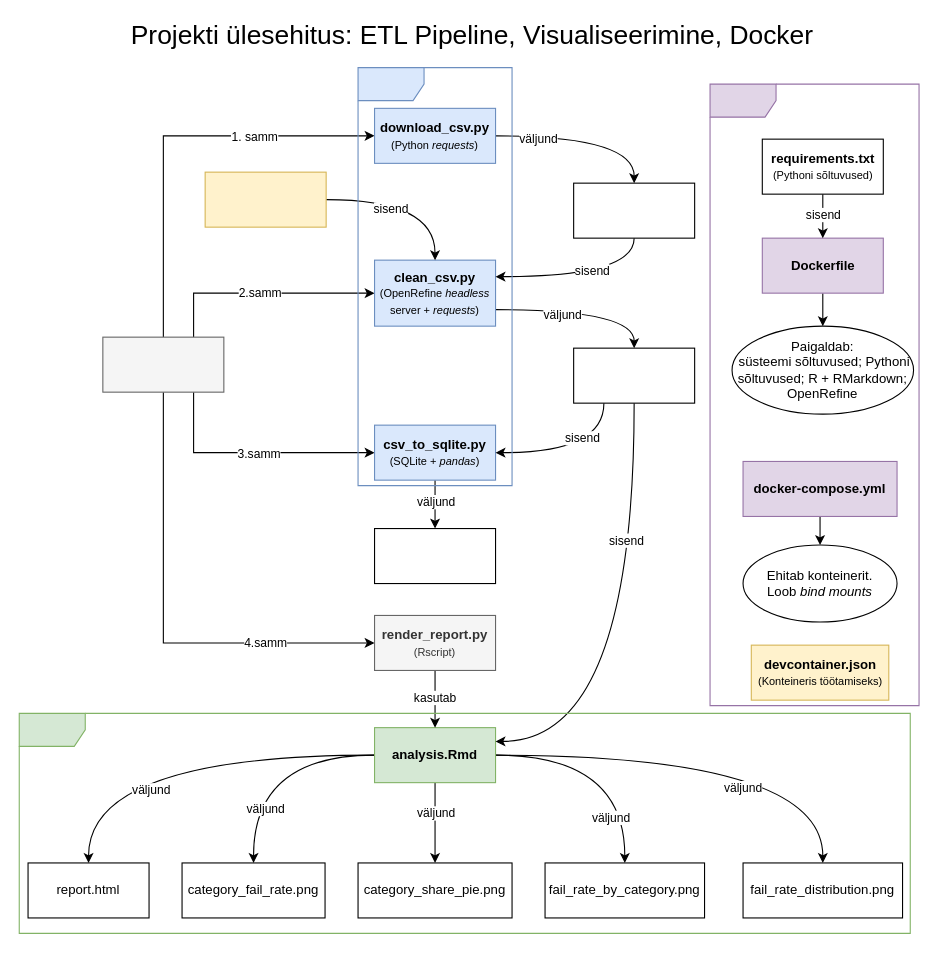
Image size: 938x953. Some labels were removed from this diagram. Here are the shapes that lost their labels. From the top down, the centre of each, then its label:
At (265,199): "operations.json (OpenRefine tegevused)".
At (634,210): "raw_file.csv".
At (434,276): "ETL".
At (163,364): "pipeline.py".
At (634,375): "cleaned_file.csv".
At (814,394): "Konteineri seadistus".
At (434,555): "database.sqlite".
At (464,822): "Visuali- seerimine".
